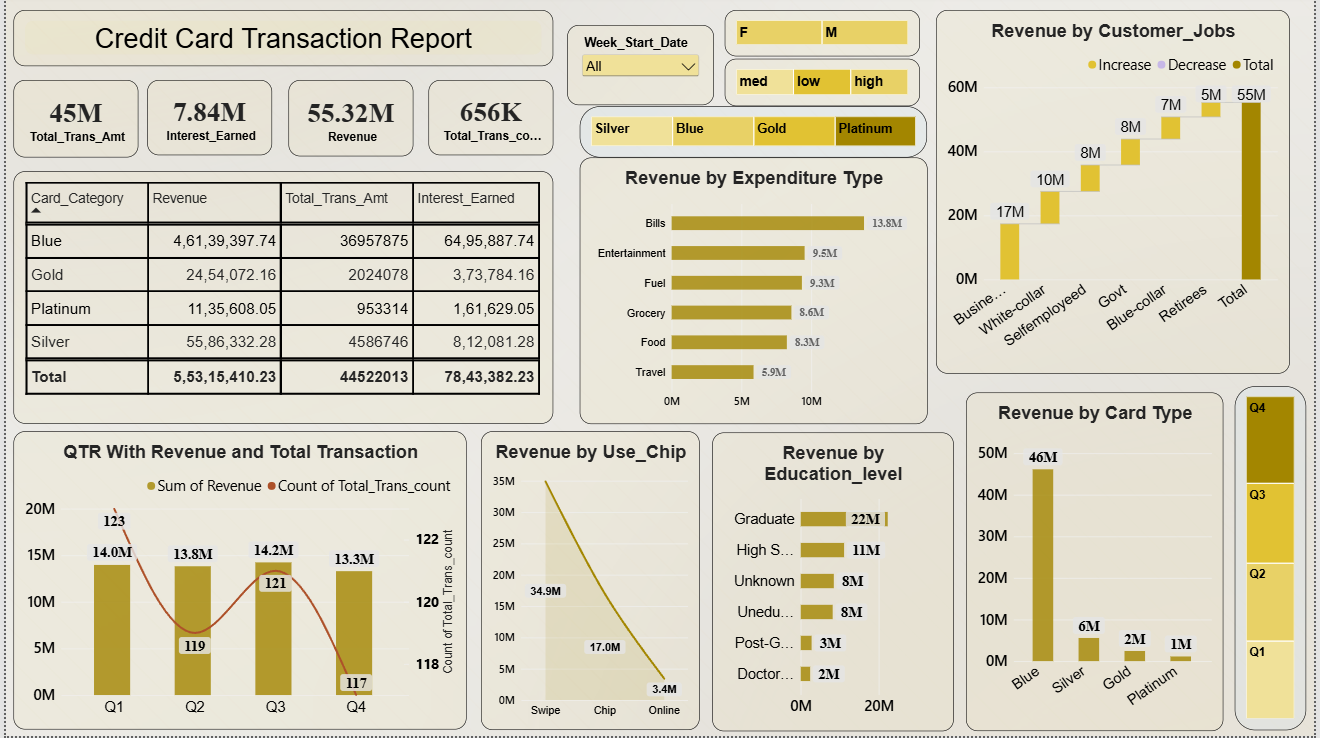

The dashboard page shown, as its layout file describes it:
{"tool":"powerbi","page":{"name":"Page 1","canvas":[1920,1080],"ordinal":0},"visuals":[{"type":"lineStackedColumnComboChart","title":"QTR With Revenue and Total Transaction","fields":{"Category":["credit_card.Qtr"],"Y":["Sum(credit_card.Revenue)"],"Y2":["Count(credit_card.Total_Trans_count)"]},"box":[11,632.8,665,437.5],"z":0},{"type":"clusteredBarChart","title":" Revenue by Expenditure Type","fields":{"Category":["credit_card.Exp Type"],"Y":["Sum(credit_card.Revenue)"]},"box":[841.5,231.6,510.3,390.9],"z":1000},{"type":"barChart","title":" Revenue by Education_level","fields":{"Category":["customer.Education_Level"],"Y":["Sum(credit_card.Revenue)"]},"box":[1036.4,634.7,354,438.4],"z":2000},{"type":"waterfallChart","title":" Revenue by Customer_Jobs","fields":{"Category":["customer.Customer_Job"],"Y":["Sum(credit_card.Revenue)"]},"box":[1364.7,14.7,519.1,533.8],"z":3000},{"type":"lineClusteredColumnComboChart","title":" Revenue by Card Type","fields":{"Category":["credit_card.Card_Category"],"Y":["Sum(credit_card.Revenue)"]},"box":[1408.7,576,377.9,497.1],"z":4000},{"type":"stackedAreaChart","title":" Revenue by Use_Chip","fields":{"Category":["credit_card.Use Chip"],"Y":["Sum(credit_card.Revenue)"]},"box":[697,632.8,321,438.4],"z":5000},{"type":"tableEx","fields":{"Values":["credit_card.Card_Category","Sum(credit_card.Revenue)","credit_card.Total_Trans_Amt","credit_card.Interest_Earned"]},"box":[11,251.3,792.4,370.5],"z":6000},{"type":"card","fields":{"Values":["Sum(credit_card.Revenue)"]},"box":[414.5,117.4,183.4,111.9],"z":7000},{"type":"card","fields":{"Values":["Sum(credit_card.Total_Trans_Amt)"]},"box":[11,117.4,183.4,113.7],"z":8000},{"type":"card","fields":{"Values":["Sum(credit_card.Interest_Earned)"]},"box":[207.3,117.4,183.4,110.1],"z":9000},{"type":"card","fields":{"Values":["Sum(credit_card.Total_Trans_count)"]},"box":[620,117.4,183.4,110.1],"z":10000},{"type":"slicer","fields":{"Values":["credit_card.Week_Start_Date"]},"box":[823.6,36.7,215.3,117.6],"z":11000},{"type":"treemap","fields":{"Group":["credit_card.Qtr"],"Values":["Avg(credit_card.Client_Num)"]},"box":[1803.1,566.8,104.6,504.4],"z":12000},{"type":"treemap","fields":{"Group":["customer.Gender"],"Values":["Avg(credit_card.Client_Num)"]},"box":[1054.7,14.7,286.1,67.9],"z":13000},{"type":"treemap","fields":{"Group":["credit_card.Card_Category"],"Values":["Avg(credit_card.Client_Num)"]},"box":[841.9,155.9,509.9,75.2],"z":14000},{"type":"treemap","fields":{"Group":["customer.Incomgroup"],"Values":["Avg(credit_card.Client_Num)"]},"box":[1054.7,86.2,286.1,69.7],"z":15000},{"type":"shape","title":"Credit Card Transaction Report","box":[11,14.7,792.4,82.5],"z":16000}]}

Visuals, with their boxes in screenshot pixels (x1, y1, x2, y2), scaled from the page's 1920x1080 canvas onto the 1320x738 screenshot:
"QTR With Revenue and Total Transaction" lineStackedColumnComboChart: <region>8, 432, 465, 731</region>
" Revenue by Expenditure Type" clusteredBarChart: <region>579, 158, 929, 425</region>
" Revenue by Education_level" barChart: <region>713, 434, 956, 733</region>
" Revenue by Customer_Jobs" waterfallChart: <region>938, 10, 1295, 375</region>
" Revenue by Card Type" lineClusteredColumnComboChart: <region>968, 394, 1228, 733</region>
" Revenue by Use_Chip" stackedAreaChart: <region>479, 432, 700, 732</region>
tableEx - credit_card.Card_Category x Sum(credit_card.Revenue): <region>8, 172, 552, 425</region>
card - Sum(credit_card.Revenue): <region>285, 80, 411, 157</region>
card - Sum(credit_card.Total_Trans_Amt): <region>8, 80, 134, 158</region>
card - Sum(credit_card.Interest_Earned): <region>143, 80, 269, 155</region>
card - Sum(credit_card.Total_Trans_count): <region>426, 80, 552, 155</region>
slicer - credit_card.Week_Start_Date: <region>566, 25, 714, 105</region>
treemap - credit_card.Qtr x Avg(credit_card.Client_Num): <region>1240, 387, 1312, 732</region>
treemap - customer.Gender x Avg(credit_card.Client_Num): <region>725, 10, 922, 56</region>
treemap - credit_card.Card_Category x Avg(credit_card.Client_Num): <region>579, 107, 929, 158</region>
treemap - customer.Incomgroup x Avg(credit_card.Client_Num): <region>725, 59, 922, 107</region>
"Credit Card Transaction Report" shape: <region>8, 10, 552, 66</region>
